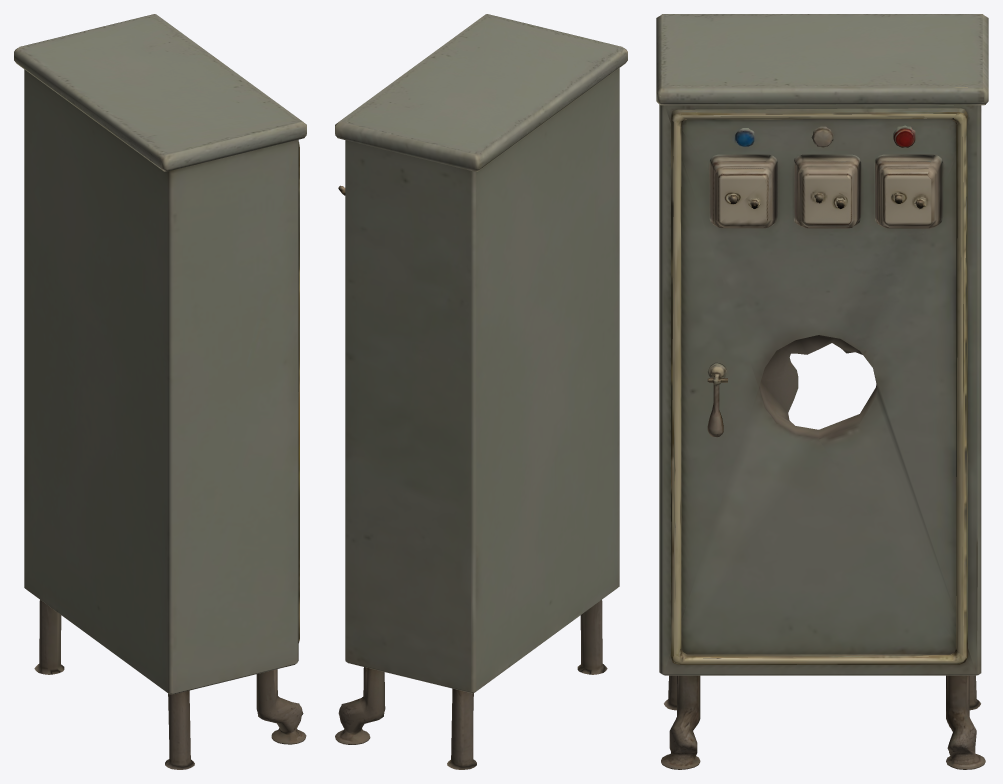
3 renders of one model, left to right at view 1: azimuth 30°, elevation 25°; view 2: azimuth 150°, elevation 25°; view 3: azimuth 270°, elevation 25°, orthographic. The views are drawn at different scales.
Visible parts, largest first — view 1: tripo_node_b4d0f401-7859-40db-aa51-17c742ae5d06; view 2: tripo_node_b4d0f401-7859-40db-aa51-17c742ae5d06; view 3: tripo_node_b4d0f401-7859-40db-aa51-17c742ae5d06.
Part boxes in pixels (x1,y1,x2,y2): tripo_node_b4d0f401-7859-40db-aa51-17c742ae5d06: (14,14,306,769); tripo_node_b4d0f401-7859-40db-aa51-17c742ae5d06: (335,14,627,769); tripo_node_b4d0f401-7859-40db-aa51-17c742ae5d06: (656,14,988,769).
Bounding box in the file's own units: 0.2871 × 0.998 × 0.4434.
Materials: 1 (1 with a texture image).
